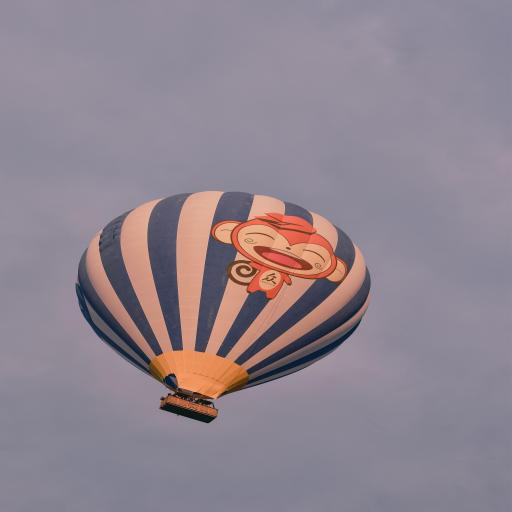hot air ballon: (68, 186, 373, 427)
